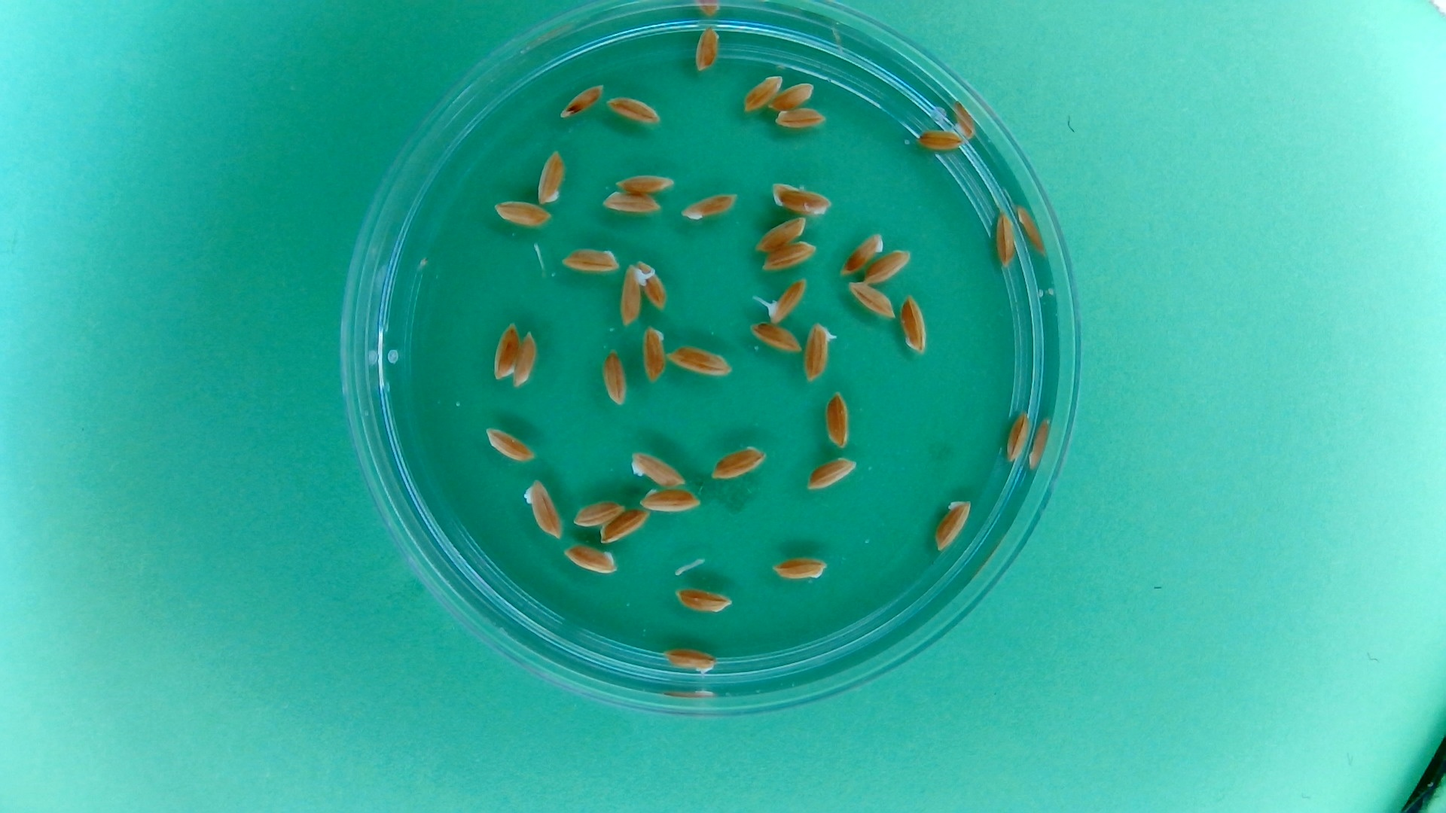no: (520, 476, 564, 542), (767, 178, 836, 218), (707, 441, 771, 484), (626, 447, 689, 490), (664, 342, 736, 379), (932, 494, 975, 555), (801, 317, 840, 383), (837, 227, 886, 277), (844, 278, 898, 321), (483, 423, 538, 465), (753, 215, 810, 255), (862, 246, 916, 288), (560, 542, 621, 579), (897, 290, 931, 356), (804, 454, 860, 494), (488, 317, 521, 384), (678, 189, 741, 224), (598, 507, 654, 546), (557, 242, 623, 275), (604, 91, 666, 126), (822, 387, 855, 452), (760, 239, 821, 274), (490, 197, 554, 230), (636, 485, 704, 516), (532, 146, 567, 206), (570, 495, 627, 531), (739, 70, 784, 115), (671, 585, 734, 617), (989, 207, 1020, 271), (599, 345, 630, 409), (746, 321, 804, 355), (557, 79, 605, 120), (639, 322, 669, 385), (511, 327, 540, 392), (767, 553, 829, 583), (1002, 406, 1033, 466), (598, 187, 664, 215), (614, 169, 678, 197), (638, 258, 670, 313), (914, 121, 967, 153), (767, 79, 817, 112), (771, 104, 829, 132), (691, 23, 722, 75), (664, 644, 713, 674)
yes: (762, 275, 810, 324), (618, 261, 647, 327)
